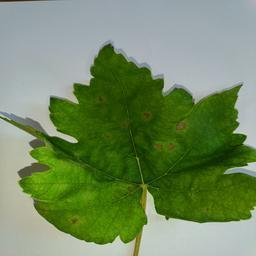Powdery-Mildew: (151, 135, 183, 155), (174, 117, 190, 134), (43, 162, 60, 178), (31, 181, 48, 197), (62, 211, 79, 227), (141, 105, 157, 121)
